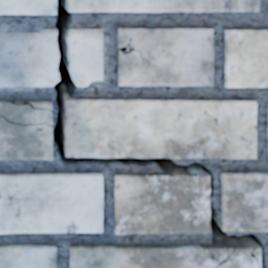brick: (66, 99, 256, 158), (0, 174, 102, 232), (115, 174, 209, 233), (118, 28, 213, 85), (70, 245, 232, 267), (0, 101, 52, 159), (221, 172, 267, 230), (225, 30, 267, 86), (69, 0, 259, 11), (0, 244, 56, 267), (221, 246, 259, 267), (0, 0, 56, 13), (31, 101, 51, 107)
broken_brick: (0, 28, 58, 87), (70, 28, 103, 87)
crack: (1, 0, 265, 267), (117, 37, 150, 66), (248, 126, 256, 129)
